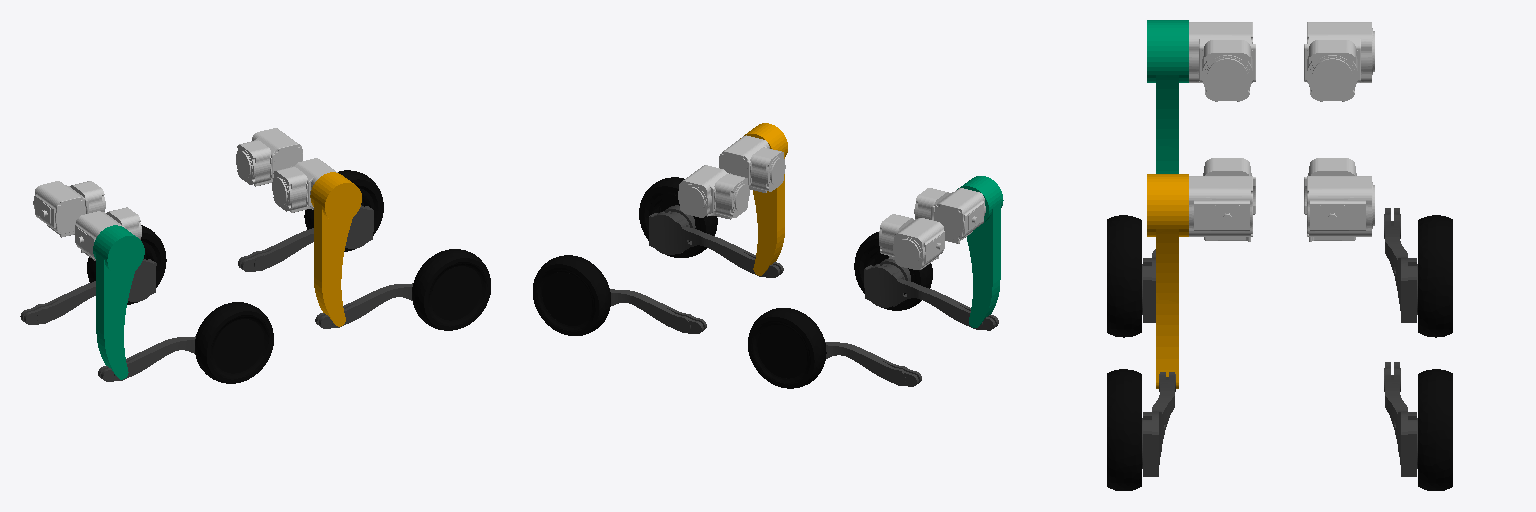
robot.urdf — rbq10_wheel:
<?xml version="1.0"?>
<!-- Auto-migrated from the matching .sdf (one-shot). Robots/sensors are URDF; worlds stay SDF.
     model:// mesh URIs are Gazebo-native; the gz_sensor_bridge build rewrites them to package:// for RViz. -->
<robot name="rbq10_wheel">
  <material name="mat_0.792_0.792_0.792_1"><color rgba="0.792 0.792 0.792 1"/></material>
  <material name="mat_charcoal"><color rgba="0.3 0.3 0.3 1"/></material>
  <material name="mat_black"><color rgba="0.08 0.08 0.08 1"/></material>

  <link name="trunk">
    <inertial>
      <origin xyz="-0.013265 0 0.011765" rpy="0 0 0"/>
      <mass value="16.757999999999999"/>
      <inertia ixx="0.16383162926600001" ixy="-0.000271071491" ixz="0.040352639310999999" iyy="0.59089134130599996" iyz="0.00021642833200000001" izz="0.67871478826800002"/>
    </inertial>
    <visual name="trunk_visual">
      <origin xyz="0 0 0" rpy="0 0 0"/>
      <geometry>
        <mesh filename="model://rbq/trunk.obj" scale="1 1 1"/>
      </geometry>
    </visual>
    <collision name="trunk_collision">
      <origin xyz="0 0 0" rpy="0 0 0"/>
      <geometry>
        <box size="0.8 0.2 0.12"/>
      </geometry>
    </collision>
    <!-- @SENSOR_VISUAL@ : lidar mesh <visual> blocks spliced here at spawn -->
  </link>
  <link name="HR_hip">
    <inertial>
      <origin xyz="0.027522 -0.01681 -0.00187" rpy="0 0 0"/>
      <mass value="3.6693440000000002"/>
      <inertia ixx="0.0069575902820000002" ixy="-0.0017011378" ixz="-2.9676182999999999e-05" iyy="0.00993982268" iyz="8.7952172000000005e-05" izz="0.012145140245"/>
    </inertial>
    <visual name="HR_hip_visual">
      <origin xyz="0 0 0" rpy="0 0 -3.141585307179587"/>
      <geometry>
        <mesh filename="model://rbq/hip3.stl" scale="1 1 1"/>
      </geometry>
      <material name="mat_0.792_0.792_0.792_1"/>
    </visual>
  </link>
  <link name="HR_thigh">
    <inertial>
      <origin xyz="-0.004765 -0.00441 -0.06311" rpy="0 0 0"/>
      <mass value="1.8001400000000001"/>
      <inertia ixx="0.018990787557999999" ixy="4.5769434999999998e-05" ixz="-0.0010248095629999999" iyy="0.019770882672000001" iyz="0.00051050423299999999" izz="0.001828257915"/>
    </inertial>
    <visual name="HR_thigh_visual">
      <origin xyz="0 0 0" rpy="0 0 0"/>
      <geometry>
        <mesh filename="model://rbq/thigh_right.obj" scale="1 1 1"/>
      </geometry>
    </visual>
    <collision name="HR_thigh_collision">
      <origin xyz="0 0 0" rpy="1.57 0 0"/>
      <geometry>
        <cylinder radius="0.059999999999999998" length="0.070000000000000007"/>
      </geometry>
    </collision>
    <collision name="HR_thigh_collision_1">
      <origin xyz="-0.035 0 -0.125" rpy="0 0 0"/>
      <geometry>
        <box size="0.05 0.04 0.25"/>
      </geometry>
    </collision>
  </link>
  <link name="HR_calf">
    <inertial>
      <origin xyz="0.00256 -0.041344 -0.243213" rpy="0 0 0"/>
      <mass value="1.685861"/>
      <inertia ixx="0.016929557" ixy="-0.000165690" ixz="-0.000463245" iyy="0.016652313" iyz="-0.003206946" izz="0.002424563"/>
    </inertial>
    <visual name="HR_calf_visual">
      <origin xyz="0 0 0" rpy="0 0 0"/>
      <geometry>
        <mesh filename="model://rbq/calf_wheel_right.stl" scale="1 1 1"/>
      </geometry>
      <material name="mat_charcoal"/>
    </visual>
    <collision name="HR_calf_collision">
      <origin xyz="0 0 -0.065" rpy="0 -0.226893 0"/>
      <geometry>
        <box size="0.02 0.03 0.21"/>
      </geometry>
    </collision>
    <collision name="HR_calf_collision_1">
      <origin xyz="0 -0.02 -0.29" rpy="1.5707 0 0"/>
      <geometry>
        <cylinder radius="0.0625" length="0.03"/>
      </geometry>
    </collision>
  </link>
  <link name="HL_hip">
    <inertial>
      <origin xyz="0.027522 0.01681 -0.00187" rpy="0 0 0"/>
      <mass value="3.6693440000000002"/>
      <inertia ixx="0.0069575902820000002" ixy="0.0017011378" ixz="-2.9676182999999999e-05" iyy="0.00993982268" iyz="-8.7952172000000005e-05" izz="0.012145140245"/>
    </inertial>
    <visual name="HL_hip_visual">
      <origin xyz="0 0 0" rpy="0 0 3.141592"/>
      <geometry>
        <mesh filename="model://rbq/hip2.stl" scale="1 1 1"/>
      </geometry>
      <material name="mat_0.792_0.792_0.792_1"/>
    </visual>
  </link>
  <link name="HL_thigh">
    <inertial>
      <origin xyz="-0.004765 0.00441 -0.06311" rpy="0 0 0"/>
      <mass value="1.8001400000000001"/>
      <inertia ixx="0.018990787557999999" ixy="-4.5769434999999998e-05" ixz="-0.0010248095629999999" iyy="0.019770882672000001" iyz="-0.00051050423299999999" izz="0.001828257915"/>
    </inertial>
    <visual name="HL_thigh_visual">
      <origin xyz="0 0 0" rpy="0 0 0"/>
      <geometry>
        <mesh filename="model://rbq/thigh.obj" scale="1 1 1"/>
      </geometry>
    </visual>
    <collision name="HL_thigh_collision">
      <origin xyz="0 0 0" rpy="1.57 0 0"/>
      <geometry>
        <cylinder radius="0.059999999999999998" length="0.070000000000000007"/>
      </geometry>
    </collision>
    <collision name="HL_thigh_collision_1">
      <origin xyz="-0.035 0 -0.125" rpy="0 0 0"/>
      <geometry>
        <box size="0.05 0.04 0.25"/>
      </geometry>
    </collision>
  </link>
  <link name="HL_calf">
    <inertial>
      <origin xyz="0.00256 0.041344 -0.243213" rpy="0 0 0"/>
      <mass value="1.685861"/>
      <inertia ixx="0.016929557" ixy="0.000165690" ixz="-0.000463245" iyy="0.016652313" iyz="0.003206946" izz="0.002424563"/>
    </inertial>
    <visual name="HL_calf_visual">
      <origin xyz="0 0 0" rpy="0 0 0"/>
      <geometry>
        <mesh filename="model://rbq/calf_wheel_left.stl" scale="1 1 1"/>
      </geometry>
      <material name="mat_charcoal"/>
    </visual>
    <collision name="HL_calf_collision">
      <origin xyz="0 0 -0.065" rpy="0 -0.226893 0"/>
      <geometry>
        <box size="0.02 0.03 0.21"/>
      </geometry>
    </collision>
    <collision name="HL_calf_collision_1">
      <origin xyz="0 0.02 -0.29" rpy="1.5707 0 0"/>
      <geometry>
        <cylinder radius="0.0625" length="0.03"/>
      </geometry>
    </collision>
  </link>
  <link name="FR_hip">
    <inertial>
      <origin xyz="-0.027522 -0.01681 -0.00187" rpy="0 0 0"/>
      <mass value="3.6693440000000002"/>
      <inertia ixx="0.0069575902820000002" ixy="0.0017011378" ixz="2.9676182999999999e-05" iyy="0.00993982268" iyz="8.7952172000000005e-05" izz="0.012145140245"/>
    </inertial>
    <visual name="FR_hip_visual">
      <origin xyz="0 0 0" rpy="0 0 0"/>
      <geometry>
        <mesh filename="model://rbq/hip2.stl" scale="1 1 1"/>
      </geometry>
      <material name="mat_0.792_0.792_0.792_1"/>
    </visual>
  </link>
  <link name="FR_thigh">
    <inertial>
      <origin xyz="-0.004765 -0.00441 -0.06311" rpy="0 0 0"/>
      <mass value="1.8001400000000001"/>
      <inertia ixx="0.018990787557999999" ixy="4.5769434999999998e-05" ixz="-0.0010248095629999999" iyy="0.019770882672000001" iyz="0.00051050423299999999" izz="0.001828257915"/>
    </inertial>
    <visual name="FR_thigh_visual">
      <origin xyz="0 0 0" rpy="0 0 0"/>
      <geometry>
        <mesh filename="model://rbq/thigh_right.obj" scale="1 1 1"/>
      </geometry>
    </visual>
    <collision name="FR_thigh_collision">
      <origin xyz="0 0 0" rpy="1.57 0 0"/>
      <geometry>
        <cylinder radius="0.059999999999999998" length="0.070000000000000007"/>
      </geometry>
    </collision>
    <collision name="FR_thigh_collision_1">
      <origin xyz="-0.035 0 -0.125" rpy="0 0 0"/>
      <geometry>
        <box size="0.05 0.04 0.25"/>
      </geometry>
    </collision>
  </link>
  <link name="FR_calf">
    <inertial>
      <origin xyz="0.00256 -0.041344 -0.243213" rpy="0 0 0"/>
      <mass value="1.685861"/>
      <inertia ixx="0.016929557" ixy="-0.000165690" ixz="-0.000463245" iyy="0.016652313" iyz="-0.003206946" izz="0.002424563"/>
    </inertial>
    <visual name="FR_calf_visual">
      <origin xyz="0 0 0" rpy="0 0 0"/>
      <geometry>
        <mesh filename="model://rbq/calf_wheel_right.stl" scale="1 1 1"/>
      </geometry>
      <material name="mat_charcoal"/>
    </visual>
    <collision name="FR_calf_collision">
      <origin xyz="0 0 -0.065" rpy="0 -0.226893 0"/>
      <geometry>
        <box size="0.02 0.03 0.21"/>
      </geometry>
    </collision>
    <collision name="FR_calf_collision_1">
      <origin xyz="0 -0.02 -0.29" rpy="1.5707 0 0"/>
      <geometry>
        <cylinder radius="0.0625" length="0.03"/>
      </geometry>
    </collision>
  </link>
  <link name="FL_hip">
    <inertial>
      <origin xyz="-0.027522 0.01681 -0.00187" rpy="0 0 0"/>
      <mass value="3.6693440000000002"/>
      <inertia ixx="0.0069575902820000002" ixy="-0.0017011378" ixz="2.9676182999999999e-05" iyy="0.00993982268" iyz="-8.7952172000000005e-05" izz="0.012145140245"/>
    </inertial>
    <visual name="FL_hip_visual">
      <origin xyz="0 0 0" rpy="0 0 0"/>
      <geometry>
        <mesh filename="model://rbq/hip3.stl" scale="1 1 1"/>
      </geometry>
      <material name="mat_0.792_0.792_0.792_1"/>
    </visual>
  </link>
  <link name="FL_thigh">
    <inertial>
      <origin xyz="-0.004765 0.00441 -0.06311" rpy="0 0 0"/>
      <mass value="1.8001400000000001"/>
      <inertia ixx="0.018990787557999999" ixy="-4.5769434999999998e-05" ixz="-0.0010248095629999999" iyy="0.019770882672000001" iyz="-0.00051050423299999999" izz="0.001828257915"/>
    </inertial>
    <visual name="FL_thigh_visual">
      <origin xyz="0 0 0" rpy="0 0 0"/>
      <geometry>
        <mesh filename="model://rbq/thigh.obj" scale="1 1 1"/>
      </geometry>
    </visual>
    <collision name="FL_thigh_collision">
      <origin xyz="0 0 0" rpy="1.57 0 0"/>
      <geometry>
        <cylinder radius="0.059999999999999998" length="0.070000000000000007"/>
      </geometry>
    </collision>
    <collision name="FL_thigh_collision_1">
      <origin xyz="-0.035 0 -0.125" rpy="0 0 0"/>
      <geometry>
        <box size="0.05 0.04 0.25"/>
      </geometry>
    </collision>
  </link>
  <link name="FL_calf">
    <inertial>
      <origin xyz="0.00256 0.041344 -0.243213" rpy="0 0 0"/>
      <mass value="1.685861"/>
      <inertia ixx="0.016929557" ixy="0.000165690" ixz="-0.000463245" iyy="0.016652313" iyz="0.003206946" izz="0.002424563"/>
    </inertial>
    <visual name="FL_calf_visual">
      <origin xyz="0 0 0" rpy="0 0 0"/>
      <geometry>
        <mesh filename="model://rbq/calf_wheel_left.stl" scale="1 1 1"/>
      </geometry>
      <material name="mat_charcoal"/>
    </visual>
    <collision name="FL_calf_collision">
      <origin xyz="0 0 -0.065" rpy="0 -0.226893 0"/>
      <geometry>
        <box size="0.02 0.03 0.21"/>
      </geometry>
    </collision>
    <collision name="FL_calf_collision_1">
      <origin xyz="0 0.02 -0.29" rpy="1.5707 0 0"/>
      <geometry>
        <cylinder radius="0.0625" length="0.03"/>
      </geometry>
    </collision>
  </link>
  <link name="HR_wheel">
    <inertial>
      <origin xyz="-0.000001 -0.002744 0" rpy="0 0 0"/>
      <mass value="1.209504"/>
      <inertia ixx="0.003963784" ixy="0.000000006" ixz="0.000000025" iyy="0.007324659" iyz="-0.000000001" izz="0.003963522"/>
    </inertial>
    <visual name="HR_wheel_visual">
      <origin xyz="0 0 0" rpy="0 0 0"/>
      <geometry>
        <mesh filename="model://rbq/wheel_right.stl" scale="1 1 1"/>
      </geometry>
      <material name="mat_black"/>
    </visual>
    <collision name="HR_wheel_collision">
      <origin xyz="0 0 0" rpy="1.5707 0 0"/>
      <geometry>
        <cylinder radius="0.1025" length="0.03"/>
      </geometry>
    </collision>
  </link>
  <link name="HL_wheel">
    <inertial>
      <origin xyz="-0.000001 0.002744 0" rpy="0 0 0"/>
      <mass value="1.209504"/>
      <inertia ixx="0.003963784" ixy="-0.000000006" ixz="0.000000025" iyy="0.007324659" iyz="0.000000001" izz="0.003963522"/>
    </inertial>
    <visual name="HL_wheel_visual">
      <origin xyz="0 0 0" rpy="0 0 0"/>
      <geometry>
        <mesh filename="model://rbq/wheel_left.stl" scale="1 1 1"/>
      </geometry>
      <material name="mat_black"/>
    </visual>
    <collision name="HL_wheel_collision">
      <origin xyz="0 0 0" rpy="1.5707 0 0"/>
      <geometry>
        <cylinder radius="0.1025" length="0.03"/>
      </geometry>
    </collision>
  </link>
  <link name="FR_wheel">
    <inertial>
      <origin xyz="-0.000001 -0.002744 0" rpy="0 0 0"/>
      <mass value="1.209504"/>
      <inertia ixx="0.003963784" ixy="0.000000006" ixz="0.000000025" iyy="0.007324659" iyz="-0.000000001" izz="0.003963522"/>
    </inertial>
    <visual name="FR_wheel_visual">
      <origin xyz="0 0 0" rpy="0 0 0"/>
      <geometry>
        <mesh filename="model://rbq/wheel_right.stl" scale="1 1 1"/>
      </geometry>
      <material name="mat_black"/>
    </visual>
    <collision name="FR_wheel_collision">
      <origin xyz="0 0 0" rpy="1.5707 0 0"/>
      <geometry>
        <cylinder radius="0.1025" length="0.03"/>
      </geometry>
    </collision>
  </link>
  <link name="FL_wheel">
    <inertial>
      <origin xyz="-0.000001 0.002744 0" rpy="0 0 0"/>
      <mass value="1.209504"/>
      <inertia ixx="0.003963784" ixy="-0.000000006" ixz="0.000000025" iyy="0.007324659" iyz="0.000000001" izz="0.003963522"/>
    </inertial>
    <visual name="FL_wheel_visual">
      <origin xyz="0 0 0" rpy="0 0 0"/>
      <geometry>
        <mesh filename="model://rbq/wheel_left.stl" scale="1 1 1"/>
      </geometry>
      <material name="mat_black"/>
    </visual>
    <collision name="FL_wheel_collision">
      <origin xyz="0 0 0" rpy="1.5707 0 0"/>
      <geometry>
        <cylinder radius="0.1025" length="0.03"/>
      </geometry>
    </collision>
  </link>
  <joint name="joint0_HRR" type="revolute">
    <origin xyz="-0.31218 -0.09 0" rpy="0 0 0"/>
    <parent link="trunk"/>
    <child link="HR_hip"/>
    <axis xyz="1 0 0"/>
    <limit lower="-0.73299999999999998" upper="0.54110000000000003" effort="100" velocity="50"/>
    <dynamics damping="0" friction="0"/>
  </joint>
  <joint name="joint1_HRP" type="revolute">
    <origin xyz="0 -0.10285 0" rpy="0 0 0"/>
    <parent link="HR_hip"/>
    <child link="HR_thigh"/>
    <axis xyz="0 1 0"/>
    <limit lower="-1.57" upper="3.14" effort="100" velocity="50"/>
    <dynamics damping="0" friction="0"/>
  </joint>
  <joint name="joint2_HRK" type="revolute">
    <origin xyz="0 0 -0.33" rpy="0 0 0"/>
    <parent link="HR_thigh"/>
    <child link="HR_calf"/>
    <axis xyz="0 1 0"/>
    <limit lower="-2.8274" upper="-0.41889999999999999" effort="150" velocity="50"/>
    <dynamics damping="0" friction="0"/>
  </joint>
  <joint name="joint3_HLR" type="revolute">
    <origin xyz="-0.31218 0.09 0" rpy="0 0 0"/>
    <parent link="trunk"/>
    <child link="HL_hip"/>
    <axis xyz="1 0 0"/>
    <limit lower="-0.54110000000000003" upper="0.73299999999999998" effort="100" velocity="50"/>
    <dynamics damping="0" friction="0"/>
  </joint>
  <joint name="joint4_HLP" type="revolute">
    <origin xyz="0 0.10285 0" rpy="0 0 0"/>
    <parent link="HL_hip"/>
    <child link="HL_thigh"/>
    <axis xyz="0 1 0"/>
    <limit lower="-1.57" upper="3.14" effort="100" velocity="50"/>
    <dynamics damping="0" friction="0"/>
  </joint>
  <joint name="joint5_HLK" type="revolute">
    <origin xyz="0 0 -0.33" rpy="0 0 0"/>
    <parent link="HL_thigh"/>
    <child link="HL_calf"/>
    <axis xyz="0 1 0"/>
    <limit lower="-2.8274" upper="-0.41889999999999999" effort="150" velocity="50"/>
    <dynamics damping="0" friction="0"/>
  </joint>
  <joint name="joint6_FRR" type="revolute">
    <origin xyz="0.31218 -0.09 0" rpy="0 0 0"/>
    <parent link="trunk"/>
    <child link="FR_hip"/>
    <axis xyz="1 0 0"/>
    <limit lower="-0.73299999999999998" upper="0.54110000000000003" effort="100" velocity="50"/>
    <dynamics damping="0" friction="0"/>
  </joint>
  <joint name="joint7_FRP" type="revolute">
    <origin xyz="0 -0.10285 0" rpy="0 0 0"/>
    <parent link="FR_hip"/>
    <child link="FR_thigh"/>
    <axis xyz="0 1 0"/>
    <limit lower="-1.57" upper="3.14" effort="100" velocity="50"/>
    <dynamics damping="0" friction="0"/>
  </joint>
  <joint name="joint8_FRK" type="revolute">
    <origin xyz="0 0 -0.33" rpy="0 0 0"/>
    <parent link="FR_thigh"/>
    <child link="FR_calf"/>
    <axis xyz="0 1 0"/>
    <limit lower="-2.8274" upper="-0.41889999999999999" effort="150" velocity="50"/>
    <dynamics damping="0" friction="0"/>
  </joint>
  <joint name="joint9_FLR" type="revolute">
    <origin xyz="0.31218 0.09 0" rpy="0 0 0"/>
    <parent link="trunk"/>
    <child link="FL_hip"/>
    <axis xyz="1 0 0"/>
    <limit lower="-0.54110000000000003" upper="0.73299999999999998" effort="100" velocity="50"/>
    <dynamics damping="0" friction="0"/>
  </joint>
  <joint name="joint10_FLP" type="revolute">
    <origin xyz="0 0.10285 0" rpy="0 0 0"/>
    <parent link="FL_hip"/>
    <child link="FL_thigh"/>
    <axis xyz="0 1 0"/>
    <limit lower="-1.57" upper="3.14" effort="100" velocity="50"/>
    <dynamics damping="0" friction="0"/>
  </joint>
  <joint name="joint11_FLK" type="revolute">
    <origin xyz="0 0 -0.33" rpy="0 0 0"/>
    <parent link="FL_thigh"/>
    <child link="FL_calf"/>
    <axis xyz="0 1 0"/>
    <limit lower="-2.8274" upper="-0.41889999999999999" effort="150" velocity="50"/>
    <dynamics damping="0" friction="0"/>
  </joint>
  <joint name="joint_HRW" type="continuous">
    <origin xyz="0.0246 -0.0745 -0.2897" rpy="0 0 0"/>
    <parent link="HR_calf"/>
    <child link="HR_wheel"/>
    <axis xyz="0 1 0"/>
    <limit effort="40" velocity="300"/>
    <dynamics damping="0" friction="0.02"/>
  </joint>
  <joint name="joint_HLW" type="continuous">
    <origin xyz="0.0246 0.0745 -0.2897" rpy="0 0 0"/>
    <parent link="HL_calf"/>
    <child link="HL_wheel"/>
    <axis xyz="0 1 0"/>
    <limit effort="40" velocity="300"/>
    <dynamics damping="0" friction="0.02"/>
  </joint>
  <joint name="joint_FRW" type="continuous">
    <origin xyz="0.0246 -0.0745 -0.2897" rpy="0 0 0"/>
    <parent link="FR_calf"/>
    <child link="FR_wheel"/>
    <axis xyz="0 1 0"/>
    <limit effort="40" velocity="300"/>
    <dynamics damping="0" friction="0.02"/>
  </joint>
  <joint name="joint_FLW" type="continuous">
    <origin xyz="0.0246 0.0745 -0.2897" rpy="0 0 0"/>
    <parent link="FL_calf"/>
    <child link="FL_wheel"/>
    <axis xyz="0 1 0"/>
    <limit effort="40" velocity="300"/>
    <dynamics damping="0" friction="0.02"/>
  </joint>
  <gazebo reference="trunk">
    <sensor name="imu_sensor" type="imu">
            <always_on>true</always_on>
            <update_rate>500</update_rate>
            <topic>/rbq/imu</topic>
            <pose>0.00665 0 -0.0404 0 -0 0</pose>
          </sensor>
  </gazebo>

  <gazebo reference="HR_wheel"><mu1>0.8</mu1><mu2>0.8</mu2></gazebo>
  <gazebo reference="HL_wheel"><mu1>0.8</mu1><mu2>0.8</mu2></gazebo>
  <gazebo reference="FR_wheel"><mu1>0.8</mu1><mu2>0.8</mu2></gazebo>
  <gazebo reference="FL_wheel"><mu1>0.8</mu1><mu2>0.8</mu2></gazebo>

  <!-- @SENSORS@ : camera.urdf (required) + {livox|ouster}.urdf + user_sensor.urdf <gazebo><sensor> blocks spliced here at spawn. -->
</robot>

--- Render facts (derived) ---
3 views of the same robot in one strip: view 1: azimuth 30°, elevation 25°; view 2: azimuth 150°, elevation 25°; view 3: azimuth 270°, elevation 25° (orthographic).
Robot: rbq10_wheel — 17 links, 16 joints (12 revolute, 4 continuous); root link trunk; default pose: all joints at 0 but 4 set to mid-range because 0 is outside their limits (joint2_HRK = -1.62, joint5_HLK = -1.62, joint8_FRK = -1.62, joint11_FLK = -1.62).
Visible links, largest first — view 1: FR_wheel, HR_wheel, HR_thigh, FR_thigh, HL_hip, FL_hip, FL_calf, HL_calf, FR_hip, HR_hip, HR_calf, FR_calf (+2 smaller); view 2: HL_wheel, FL_wheel, HR_thigh, FR_calf, HR_calf, FL_hip, HL_hip, FR_thigh, HR_hip, FR_hip, FR_wheel, HL_calf (+2 smaller); view 3: FR_thigh, FL_hip, FR_hip, HL_hip, HR_hip, HR_thigh, HR_wheel, HL_wheel, FR_wheel, FL_wheel, HL_calf, FL_calf (+2 smaller).
Boxes of the visible links, box(x1,y1,x2,y2) form: FR_wheel: box(412, 249, 490, 330); HR_wheel: box(195, 302, 273, 383); HR_thigh: box(93, 225, 144, 379); FR_thigh: box(310, 172, 361, 326); HL_hip: box(33, 181, 105, 237); FL_hip: box(236, 128, 302, 186); FL_calf: box(238, 205, 373, 271); HL_calf: box(20, 259, 156, 324); FR_hip: box(272, 158, 337, 212); HR_hip: box(75, 207, 141, 260); HR_calf: box(98, 336, 195, 381); FR_calf: box(315, 283, 412, 328); HL_wheel: box(748, 308, 826, 388); FL_wheel: box(533, 255, 610, 335); HR_thigh: box(957, 176, 1003, 327); FR_calf: box(649, 205, 783, 277); HR_calf: box(864, 258, 998, 330); FL_hip: box(678, 165, 749, 219); HL_hip: box(879, 214, 944, 269); FR_thigh: box(740, 123, 787, 275); HR_hip: box(914, 188, 985, 243); FR_hip: box(719, 135, 785, 192); FR_wheel: box(639, 177, 717, 257); HL_calf: box(825, 342, 921, 386); FR_thigh: box(1147, 174, 1188, 388); FL_hip: box(1304, 158, 1374, 241); FR_hip: box(1189, 158, 1255, 241); HL_hip: box(1304, 22, 1374, 101); HR_hip: box(1189, 22, 1255, 101); HR_thigh: box(1147, 20, 1188, 173); HR_wheel: box(1107, 215, 1141, 337); HL_wheel: box(1418, 215, 1452, 337); FR_wheel: box(1107, 369, 1141, 490); FL_wheel: box(1418, 369, 1452, 490); HL_calf: box(1384, 208, 1417, 322); FL_calf: box(1384, 362, 1417, 476).
Bounding box of the posed robot: 1.07 × 0.5947 × 0.4487 m (x, y, z).
Meshes: 9 distinct files referenced, 14 mesh visuals loaded (6 binary STL, 1 OBJ); not drawn: 3 (reference not matched to a file when rendering).
